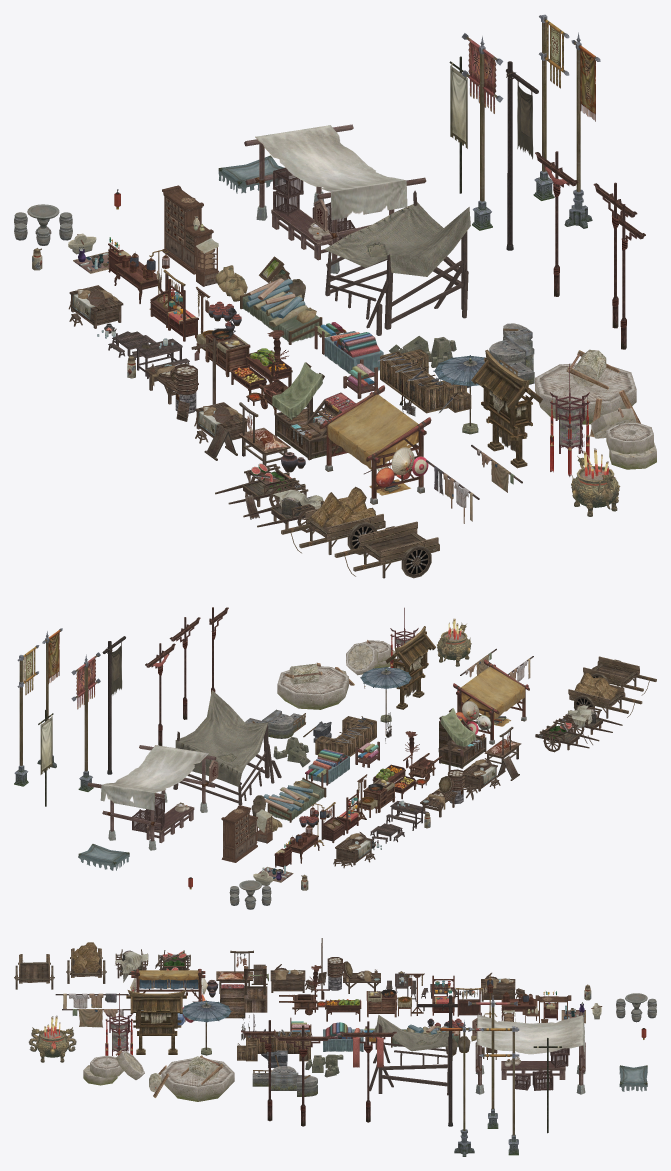
The model's file is chinese_market.glb.
3 views of the same model, one above another, from view 1: azimuth 30°, elevation 25°; view 2: azimuth 150°, elevation 25°; view 3: azimuth 270°, elevation 25° (orthographic). The views are drawn at different scales.
Visible parts, largest first — view 1: FrontSide_0 (×38), FrontSide_1 (×4); view 2: FrontSide_0 (×37), FrontSide_1 (×5); view 3: FrontSide_0 (×36), FrontSide_1 (×10).
Boxes of the visible parts, left/top/right/bottom form: FrontSide_0 (×38): left=14, top=14, right=656, bottom=578; FrontSide_1 (×4): left=68, top=125, right=423, bottom=498; FrontSide_0 (×37): left=14, top=617, right=656, bottom=909; FrontSide_1 (×5): left=100, top=666, right=525, bottom=868; FrontSide_0 (×36): left=14, top=938, right=656, bottom=1156; FrontSide_1 (×10): left=115, top=950, right=584, bottom=1066.
Size of the model in its own units: 19.69 by 6.39 by 27.18.
71 materials, 71 textured.
